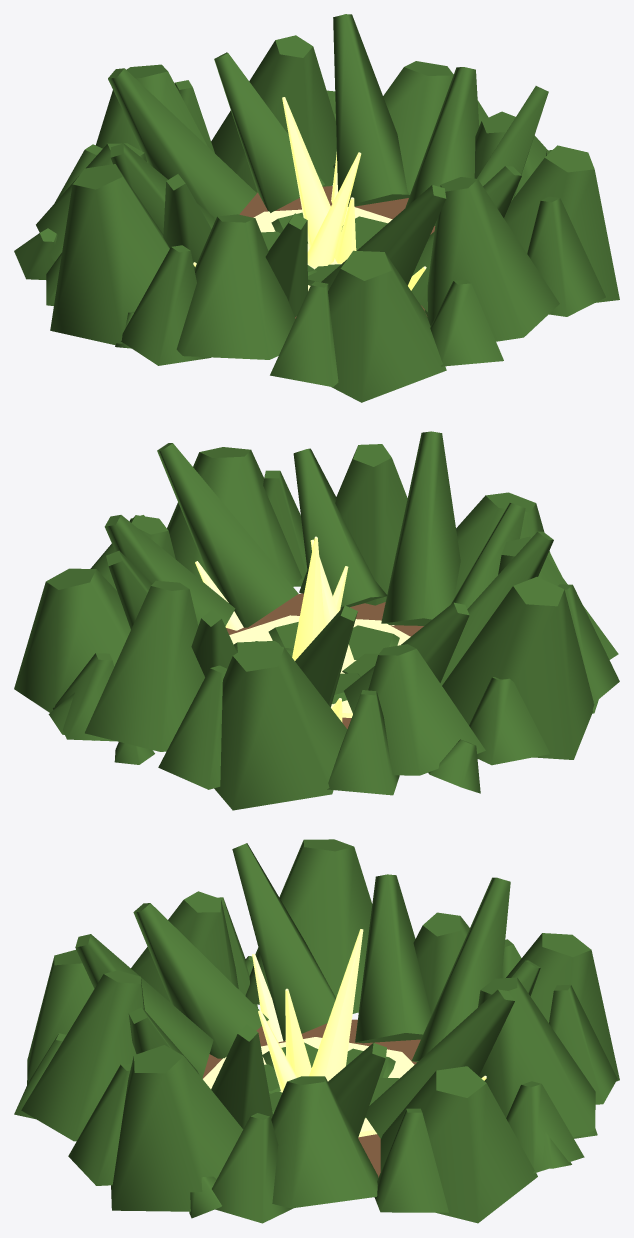
Rendered from crater-starbloom.glb.
3 renders of one model, top to bottom at view 1: azimuth 30°, elevation 25°; view 2: azimuth 150°, elevation 25°; view 3: azimuth 270°, elevation 25°, orthographic. The views are drawn at different scales.
Parts seen in each view (by area): view 1: Mesh_RimRockMain_5, Mesh_RimRockMain_3, Mesh_RimRockMain_2, Mesh_RimRockMain_4, Mesh_StonePetal_9, Mesh_RimRockMain_8, Mesh_StonePetal_7, Mesh_RimRockMain_1, Mesh_StonePetal_8, Mesh_RimRockSec_4, Mesh_RimRockSec_1, Mesh_StonePetal_0 (+21 smaller); view 2: Mesh_RimRockMain_7, Mesh_RimRockMain_5, Mesh_RimRockMain_8, Mesh_RimRockMain_9, Mesh_StonePetal_3, Mesh_StonePetal_1, Mesh_RimRockMain_6, Mesh_RimRockMain_1, Mesh_RimRockMain_2, Mesh_StonePetal_2, Mesh_RimRockSec_7, Mesh_RimRockSec_6 (+22 smaller); view 3: Mesh_RimRockMain_1, Mesh_RimRockMain_9, Mesh_RimRockMain_0, Mesh_RimRockMain_2, Mesh_RimRockMain_5, Mesh_RimRockMain_8, Mesh_StonePetal_6, Mesh_StonePetal_5, Mesh_StonePetal_4, Mesh_StonePetal_7, Mesh_StonePetal_9, Mesh_RimRockMain_7 (+23 smaller).
Boxes of the visible parts, bbox=[...] form: Mesh_RimRockMain_5: bbox=[50, 164, 169, 345]; Mesh_RimRockMain_3: bbox=[328, 250, 446, 402]; Mesh_RimRockMain_2: bbox=[424, 177, 559, 341]; Mesh_RimRockMain_4: bbox=[176, 214, 295, 359]; Mesh_StonePetal_9: bbox=[333, 14, 409, 206]; Mesh_RimRockMain_8: bbox=[211, 35, 336, 192]; Mesh_StonePetal_7: bbox=[108, 68, 256, 222]; Mesh_RimRockMain_1: bbox=[504, 145, 619, 302]; Mesh_StonePetal_8: bbox=[214, 52, 324, 212]; Mesh_RimRockSec_4: bbox=[121, 245, 211, 365]; Mesh_RimRockSec_1: bbox=[527, 196, 605, 316]; Mesh_StonePetal_0: bbox=[405, 67, 479, 225]; Mesh_RimRockMain_7: bbox=[214, 641, 347, 810]; Mesh_RimRockMain_5: bbox=[442, 577, 594, 759]; Mesh_RimRockMain_8: bbox=[85, 580, 204, 751]; Mesh_RimRockMain_9: bbox=[14, 568, 130, 712]; Mesh_StonePetal_3: bbox=[381, 431, 460, 625]; Mesh_StonePetal_1: bbox=[157, 443, 298, 627]; Mesh_RimRockMain_6: bbox=[368, 644, 485, 775]; Mesh_RimRockMain_1: bbox=[167, 447, 301, 586]; Mesh_RimRockMain_2: bbox=[299, 444, 407, 605]; Mesh_StonePetal_2: bbox=[293, 448, 386, 609]; Mesh_RimRockSec_7: bbox=[158, 665, 227, 789]; Mesh_RimRockSec_6: bbox=[327, 690, 399, 795]; Mesh_RimRockMain_1: bbox=[111, 1045, 243, 1211]; Mesh_RimRockMain_9: bbox=[380, 1066, 537, 1223]; Mesh_RimRockMain_0: bbox=[271, 1076, 378, 1208]; Mesh_RimRockMain_2: bbox=[21, 970, 144, 1141]; Mesh_RimRockMain_5: bbox=[245, 839, 372, 1013]; Mesh_RimRockMain_8: bbox=[478, 977, 595, 1137]; Mesh_StonePetal_6: bbox=[355, 874, 431, 1043]; Mesh_StonePetal_5: bbox=[232, 843, 335, 1041]; Mesh_StonePetal_4: bbox=[133, 903, 268, 1058]; Mesh_StonePetal_7: bbox=[411, 877, 510, 1062]; Mesh_StonePetal_9: bbox=[365, 989, 514, 1138]; Mesh_RimRockMain_7: bbox=[506, 933, 619, 1081].
Size of the model in its own units: 3.51 by 1.13 by 3.47.
